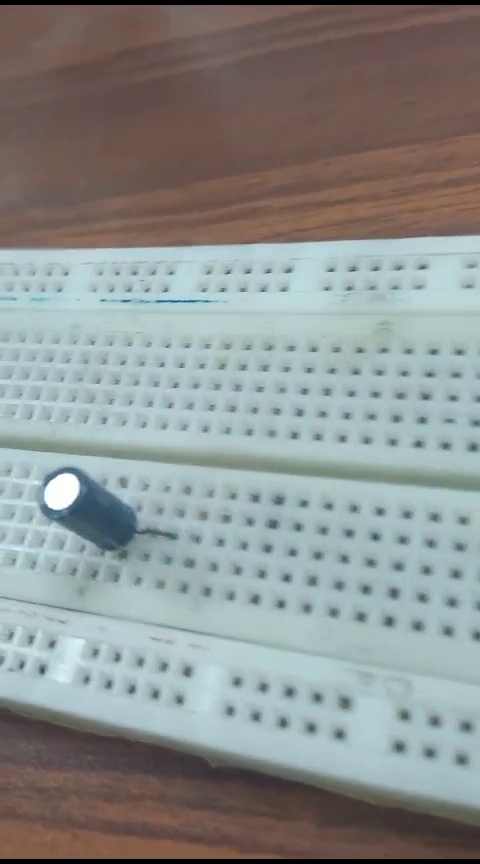capacitor: (40, 459, 157, 557)
